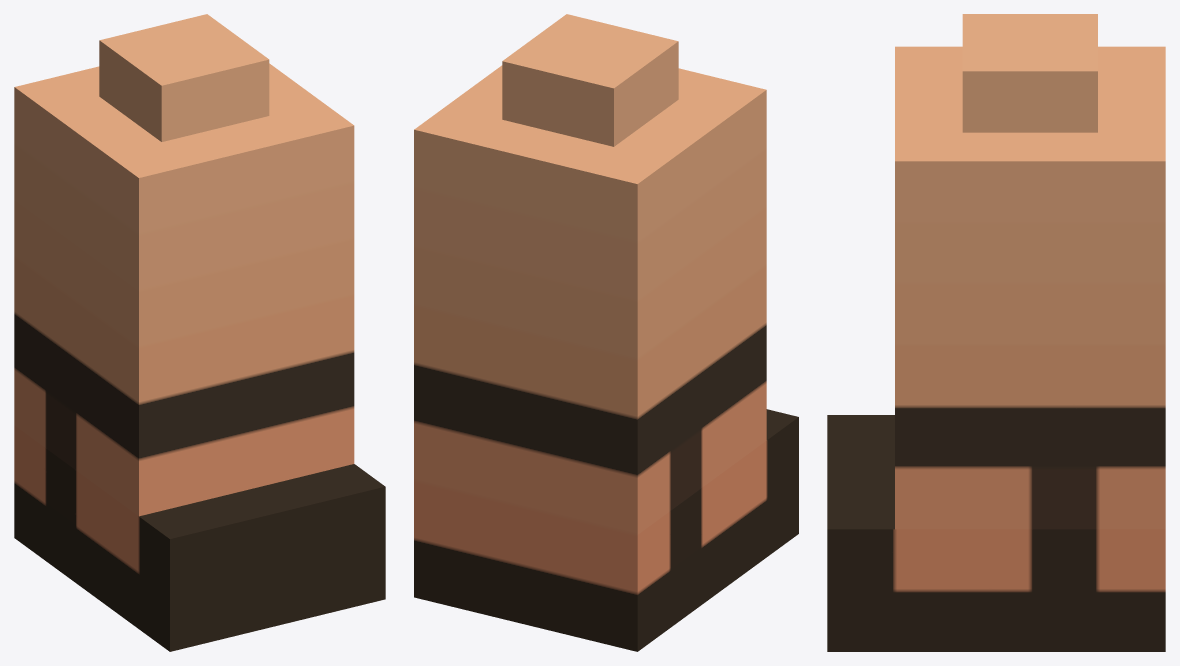
Rendered from Knee041.fbx.
3 views of the same model, side by side, from view 1: azimuth 30°, elevation 25°; view 2: azimuth 150°, elevation 25°; view 3: azimuth 270°, elevation 25° (orthographic). The views are drawn at different scales.
Visible parts, largest first — view 1: Knee041; view 2: Knee041; view 3: Knee041.
Boxes of the visible parts, x1=… form: Knee041: x1=14, y1=14, x2=385, y2=651; Knee041: x1=414, y1=14, x2=798, y2=651; Knee041: x1=827, y1=14, x2=1165, y2=651.
Bounding box in the file's own units: 4 × 9 × 5.
